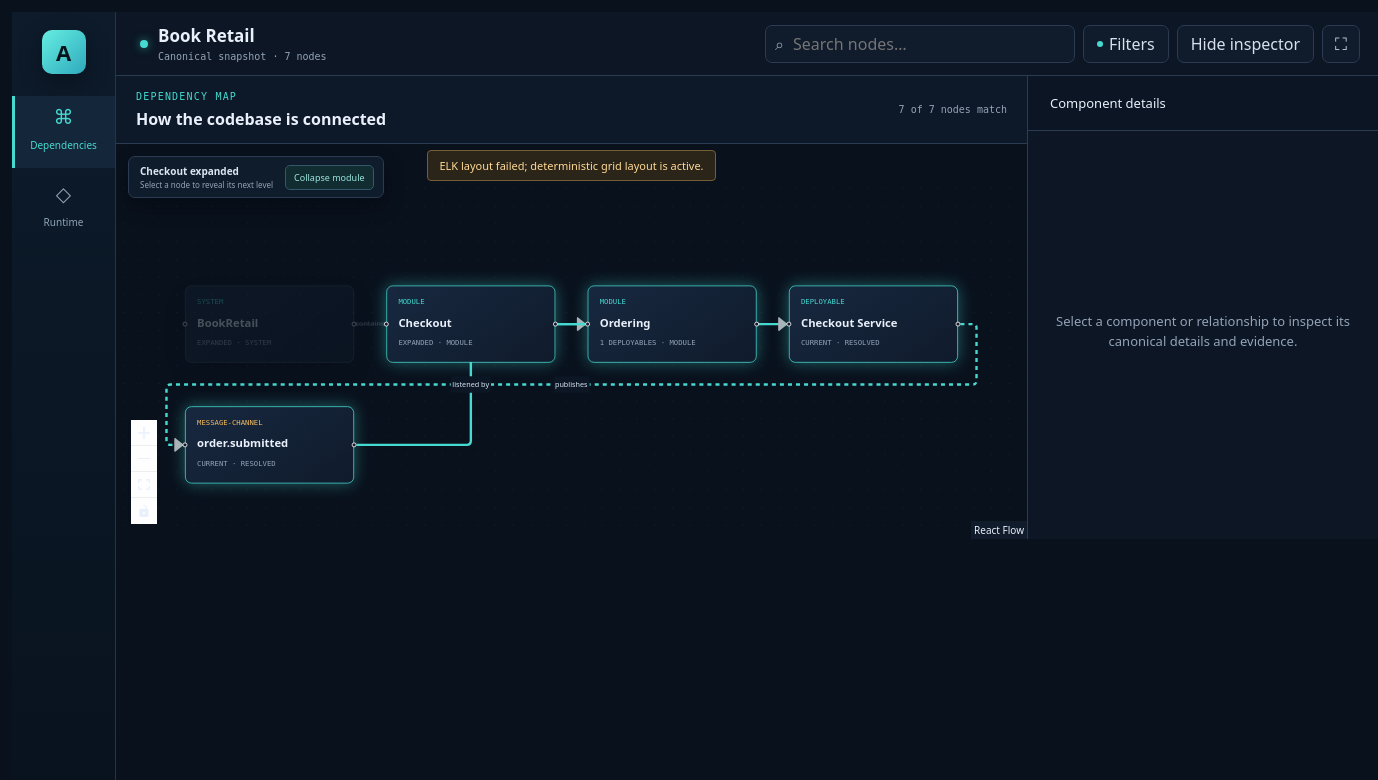
Test: App › collapses the inspector and exits focus mode with Escape
The width and height of the screenshot is (1378, 780).
expect the heading "How the codebase is connected" is shown: met, box [136,108,386,130]
Step 1. Click the button "Hide inspector" → (1245, 44), box [1177,24,1314,62]
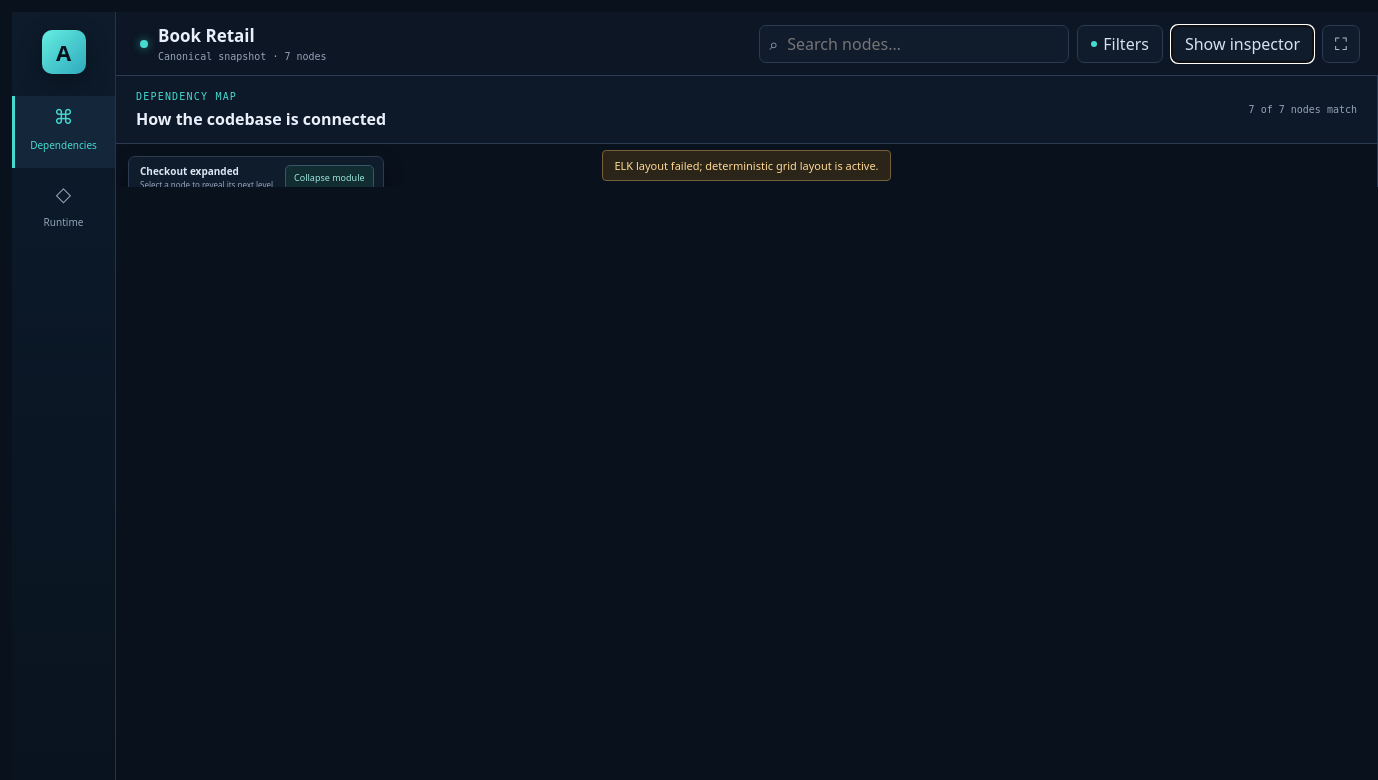
Step 2. Click the button named "Focus map" → (1341, 44), box [1322,24,1360,62]
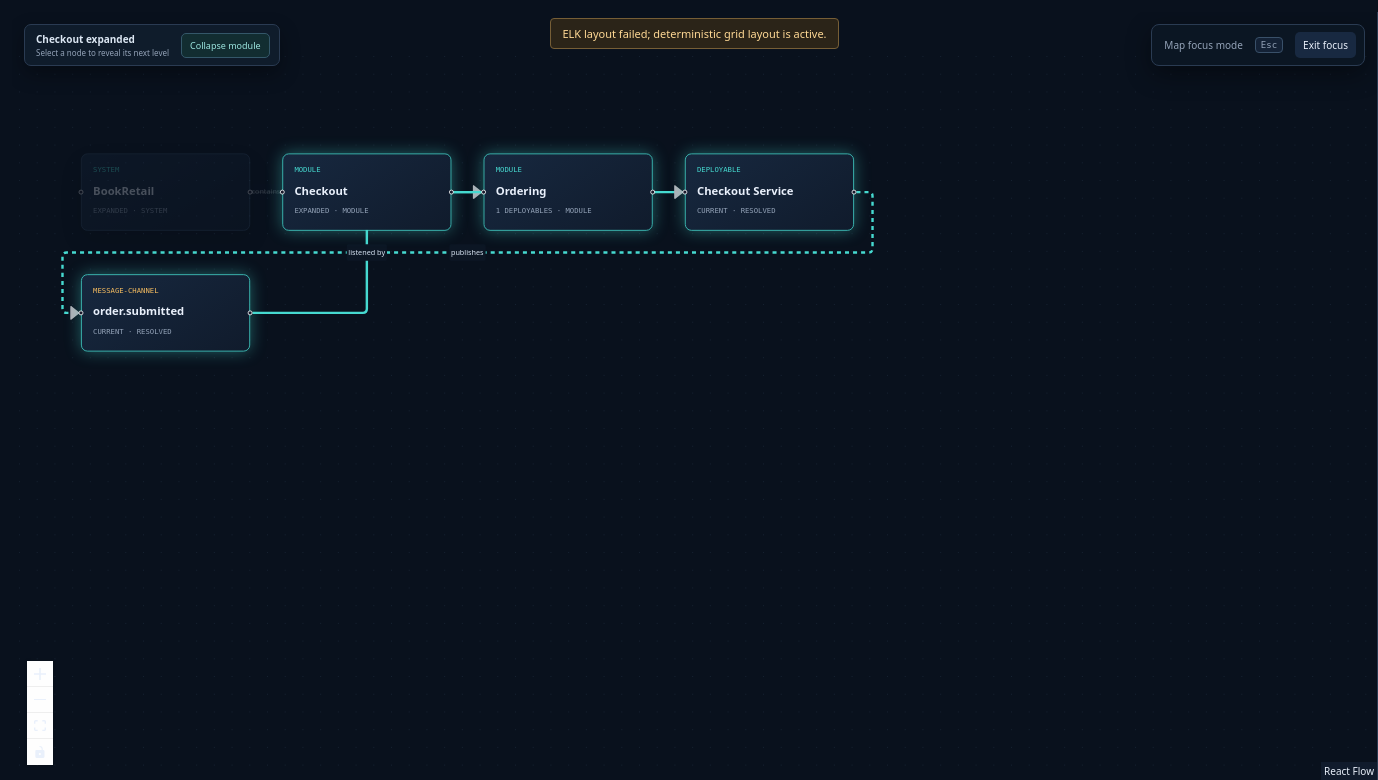
expect the text "Map focus mode" is shown: met, box [1164,38,1243,52]
Step 3. Press Escape
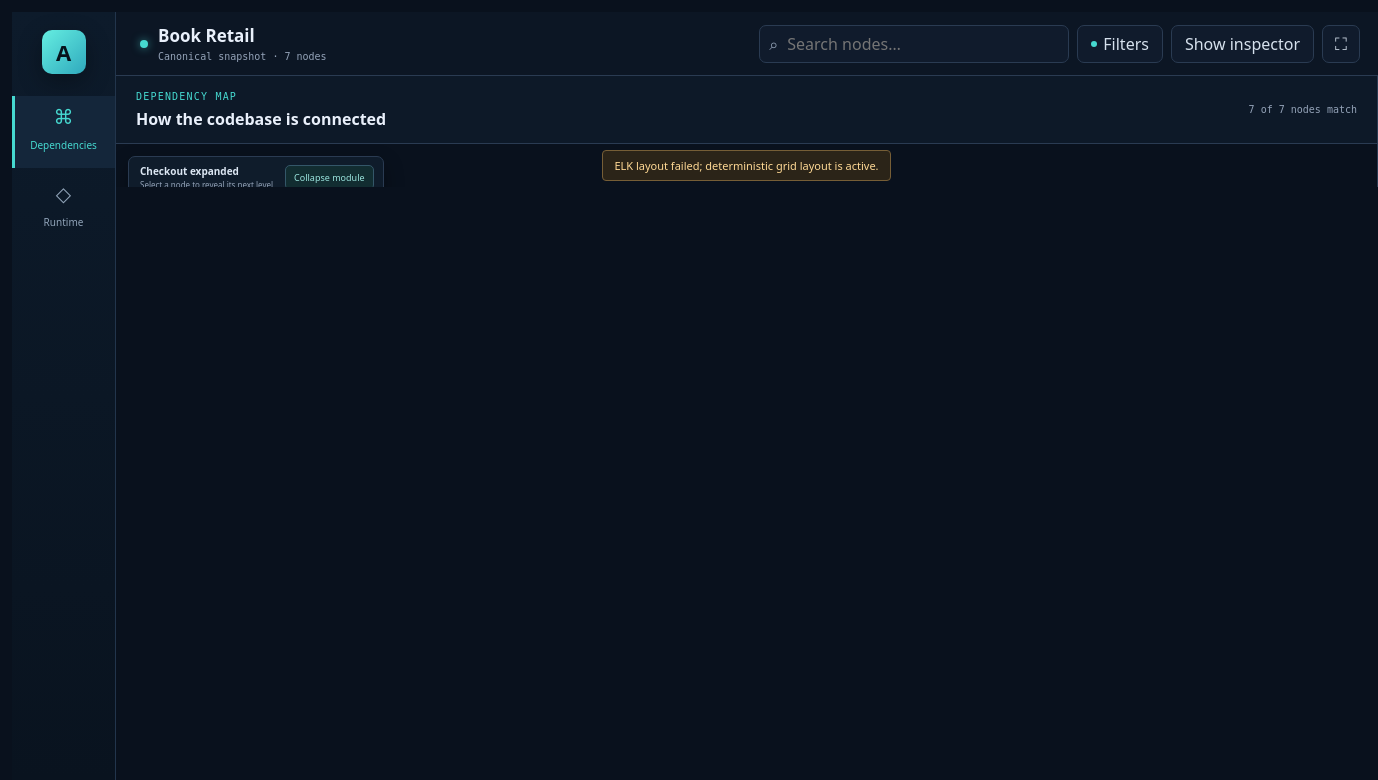
expect the text "Map focus mode" is gone: met
